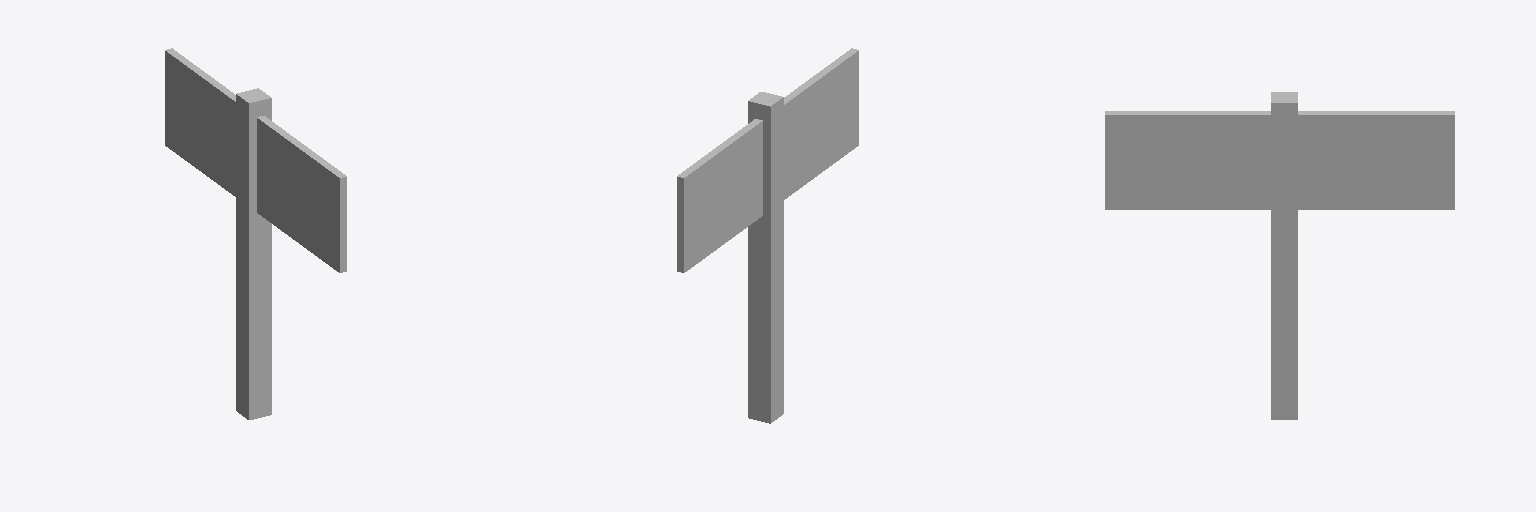
Rendered from pointer.obj.
3 renders of one model, left to right at view 1: azimuth 30°, elevation 25°; view 2: azimuth 150°, elevation 25°; view 3: azimuth 270°, elevation 25°, orthographic.
Parts seen in each view (by area): view 1: object 1; view 2: object 1; view 3: object 1.
Boxes of the visible parts, <box> form: object 1: <box>165,48,346,419</box>; object 1: <box>677,48,858,423</box>; object 1: <box>1105,92,1454,419</box>.
Bounding box in the file's own units: 0.3 × 4 × 4.